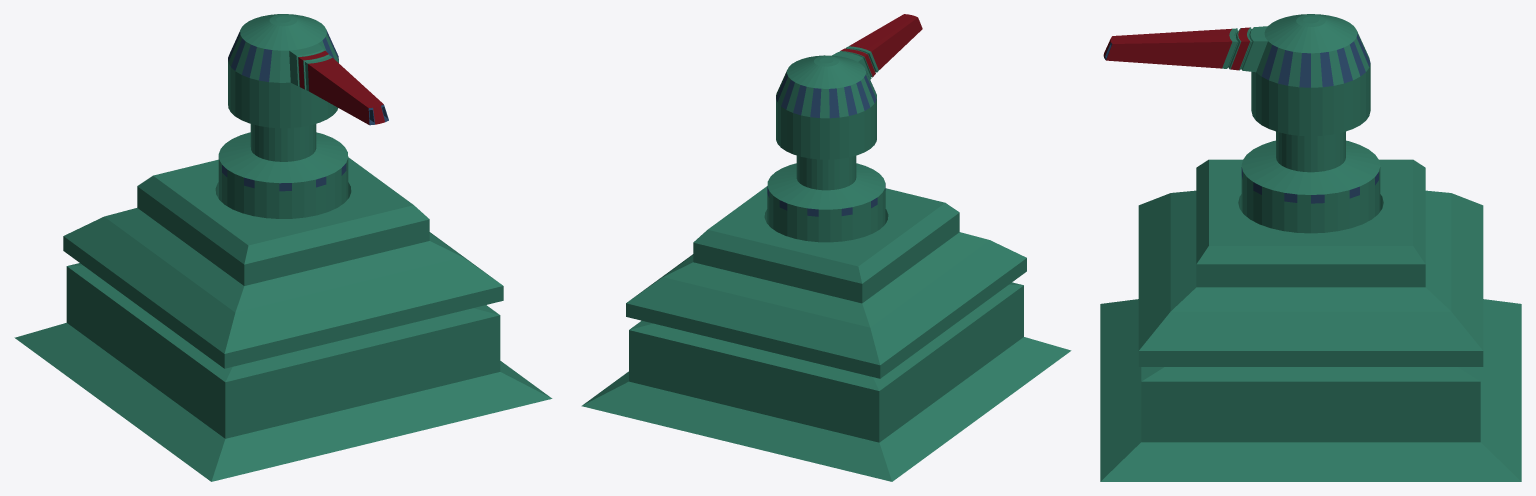
File: tower.fbx
The picture shows the model from 3 angles, left to right: view 1: azimuth 30°, elevation 25°; view 2: azimuth 150°, elevation 25°; view 3: azimuth 270°, elevation 25°; orthographic projection. The views are drawn at different scales.
Parts seen in each view (by area): view 1: Plane, Cylinder; view 2: Plane, Cylinder; view 3: Plane, Cylinder.
Part boxes in pixels (x1=…): Plane: x1=14, y1=157, x2=552, y2=481; Cylinder: x1=218, y1=14, x2=388, y2=218; Plane: x1=581, y1=186, x2=1071, y2=481; Cylinder: x1=767, y1=14, x2=922, y2=242; Plane: x1=1100, y1=159, x2=1521, y2=481; Cylinder: x1=1103, y1=14, x2=1380, y2=233.
Size of the model in its own units: 2 by 1.95 by 2.
